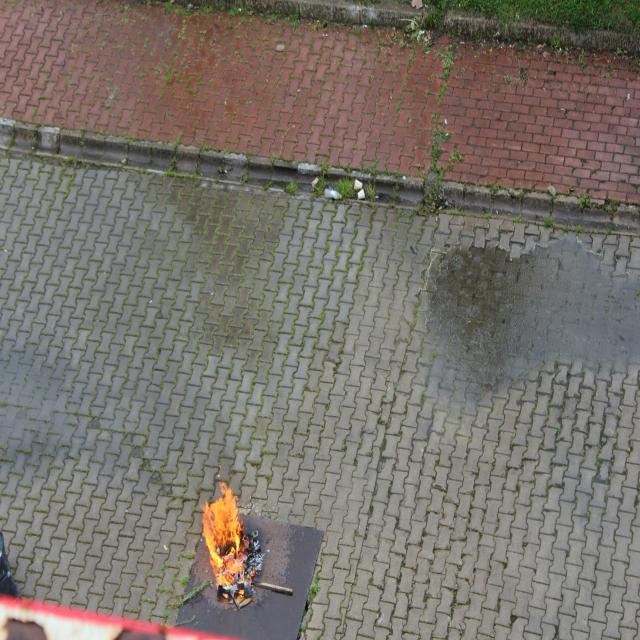fire: (199, 482, 248, 595)
